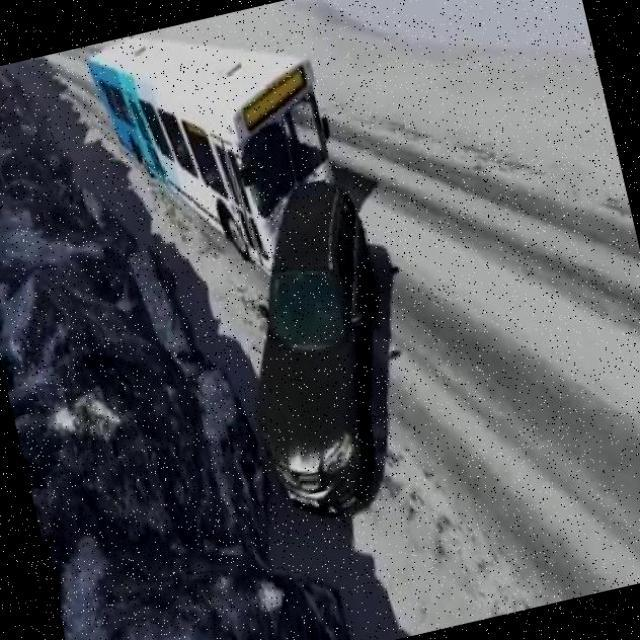accident: (159, 86, 425, 358)
